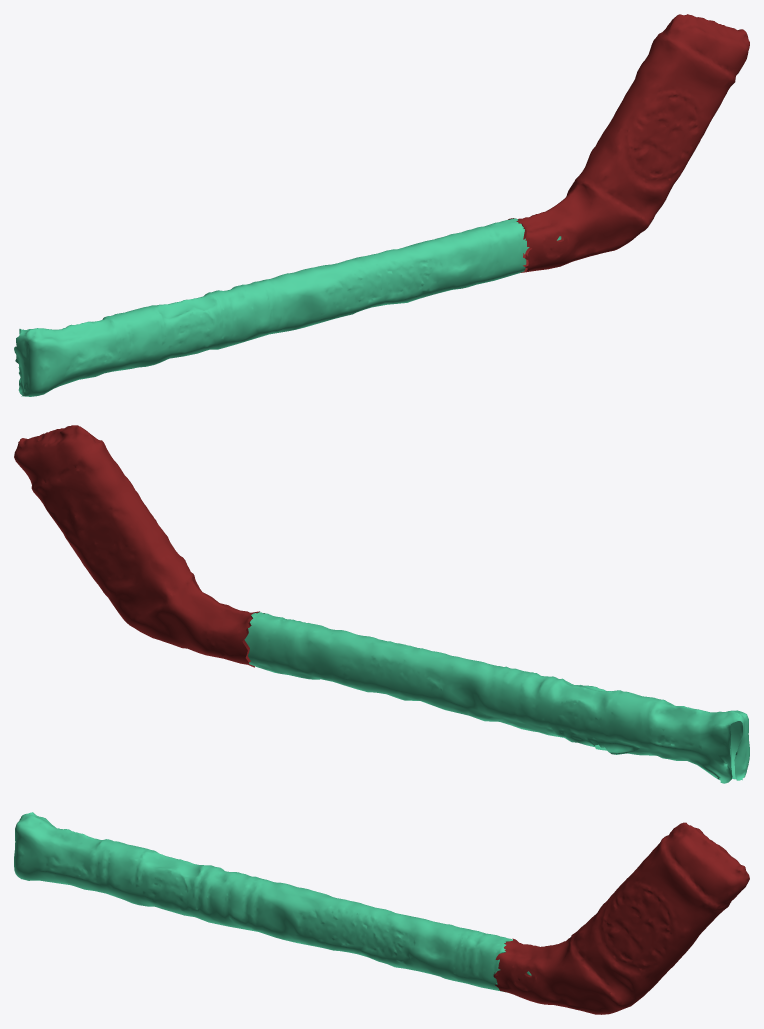
File: object_deformed_5.obj
The picture shows the model from 3 angles, top to bottom: view 1: azimuth 30°, elevation 25°; view 2: azimuth 150°, elevation 25°; view 3: azimuth 330°, elevation 25°; orthographic projection. The views are drawn at different scales.
Bounding box in the file's own units: 0.6064 × 0.1656 × 0.0523.
